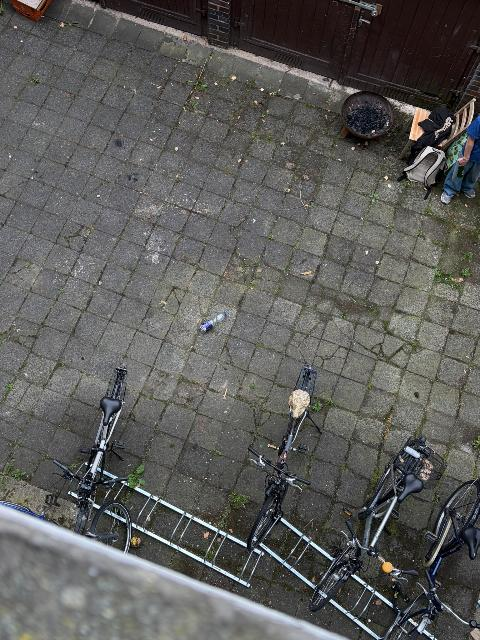plastic_bottle: (200, 311, 230, 334)
